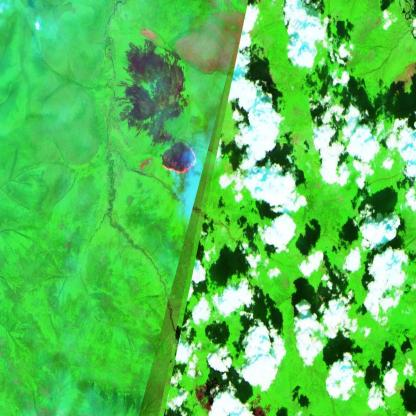fire: (159, 138, 198, 176)
